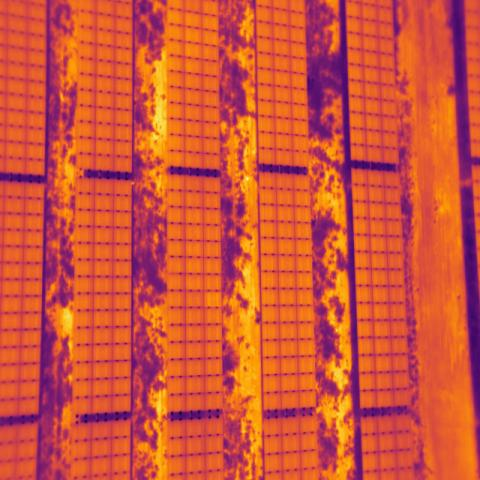fault: (204, 291, 222, 306)
